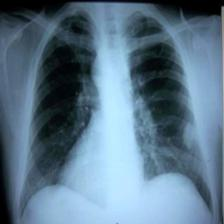tuberculosis: (11, 5, 217, 224)
